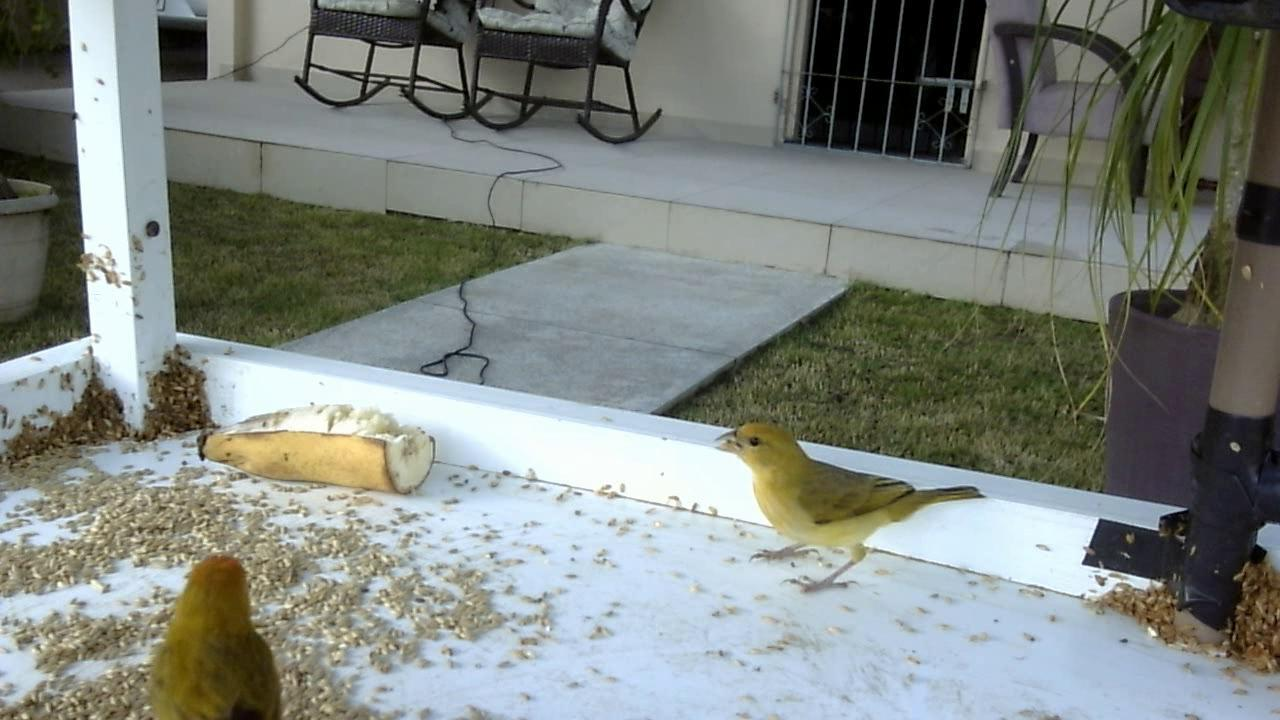canario_do_amazonas: (704, 409, 986, 609), (143, 548, 290, 718)
